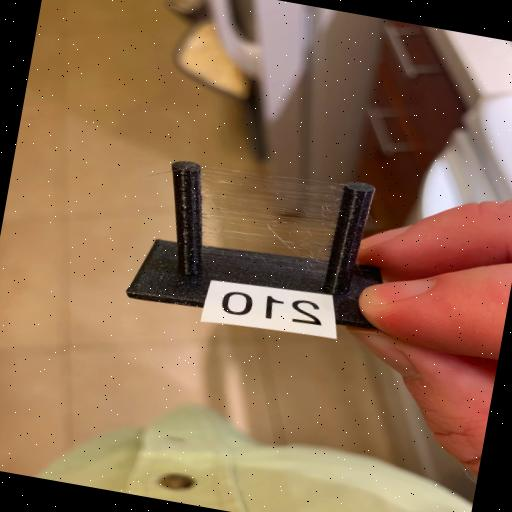stringing: (192, 161, 348, 289)
